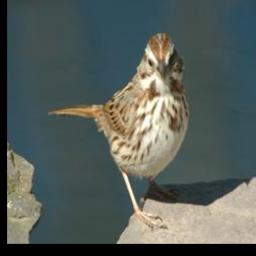Sparrow: (47, 31, 191, 228)
